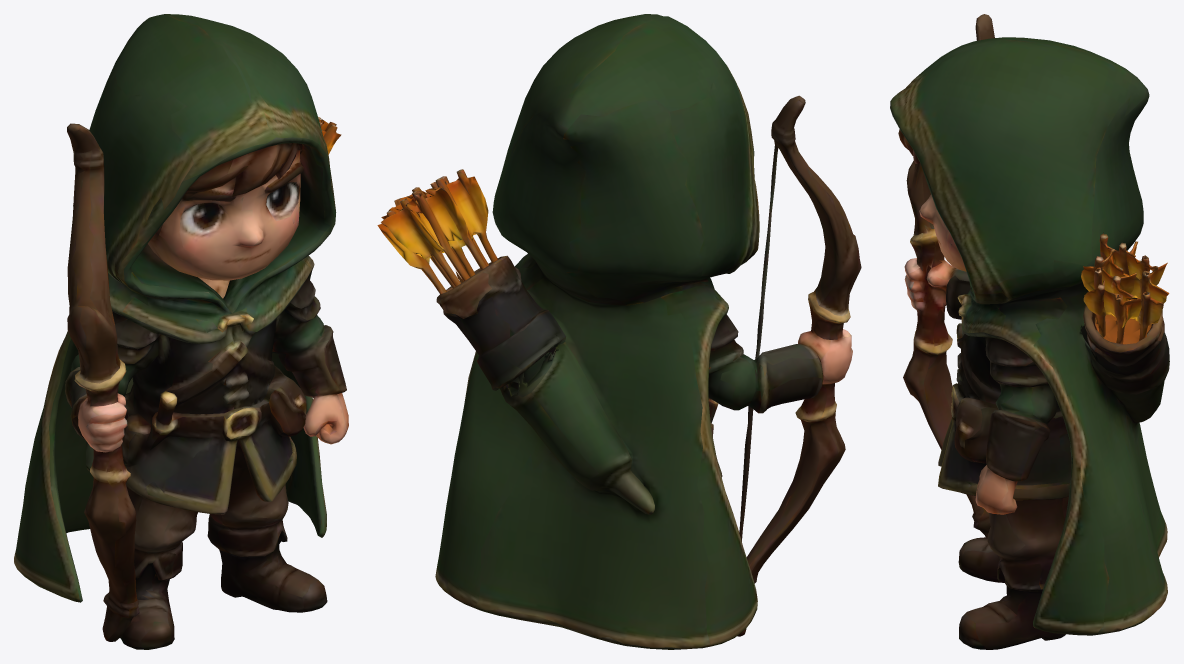
The model's file is model-archer.glb.
3 renders of one model, left to right at view 1: azimuth 30°, elevation 25°; view 2: azimuth 150°, elevation 25°; view 3: azimuth 270°, elevation 25°, orthographic. The views are drawn at different scales.
Parts seen in each view (by area): view 1: geometry_0; view 2: geometry_0; view 3: geometry_0.
Boxes of the visible parts, x1,y1,x2,y2 form: geometry_0: [14, 14, 348, 649]; geometry_0: [377, 14, 861, 649]; geometry_0: [890, 14, 1169, 649].
Bounding box in the file's own units: 0.6658 × 1 × 0.4486.
Materials: 1 (1 with a texture image).
